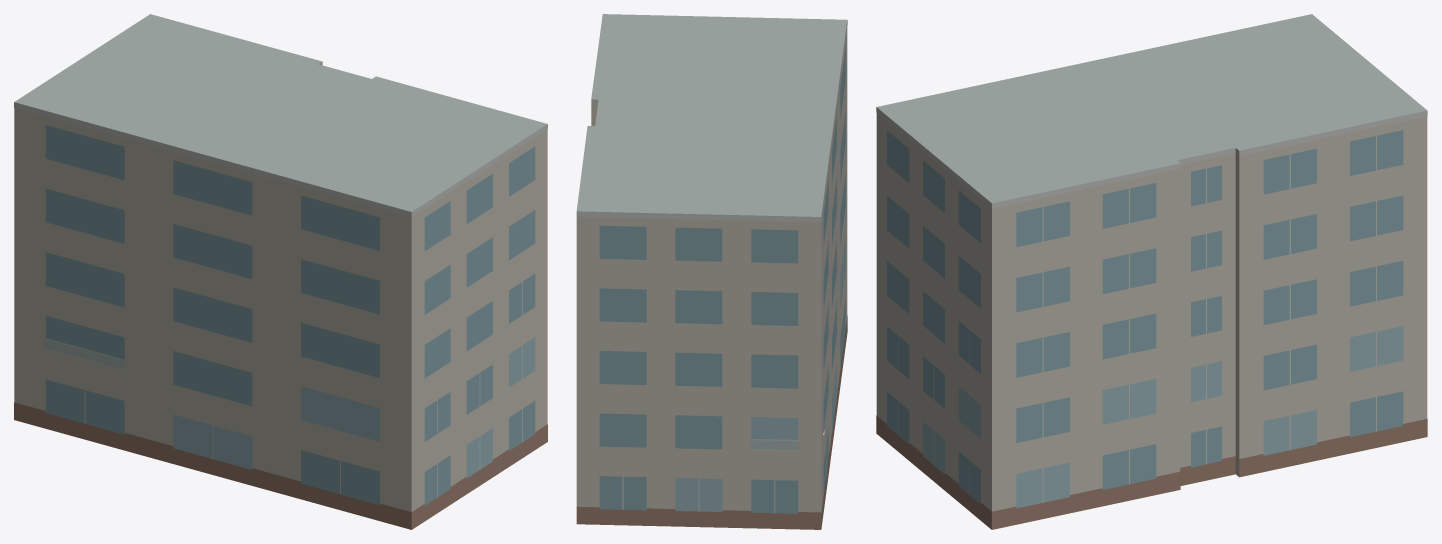
The model's file is survey-upis-33021676.glb.
3 renders of one model, left to right at view 1: azimuth 30°, elevation 25°; view 2: azimuth 150°, elevation 25°; view 3: azimuth 270°, elevation 25°, orthographic. The views are drawn at different scales.
Visible parts, largest first — view 1: survey-upis-33021676.tmp; view 2: survey-upis-33021676.tmp; view 3: survey-upis-33021676.tmp.
Boxes of the visible parts, x1,y1,x2,y2 form: survey-upis-33021676.tmp: [14, 14, 547, 529]; survey-upis-33021676.tmp: [576, 14, 847, 529]; survey-upis-33021676.tmp: [876, 14, 1427, 529].
Size of the model in its own units: 17.69 by 14.21 by 21.74.
